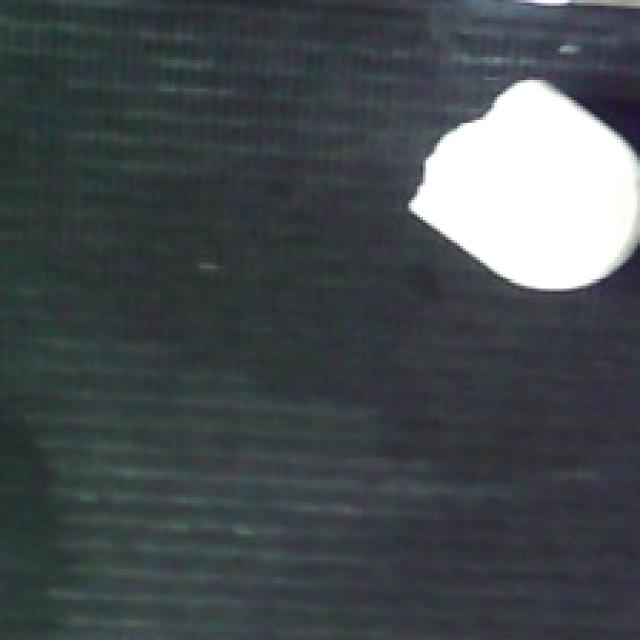defected: (400, 71, 637, 306)
